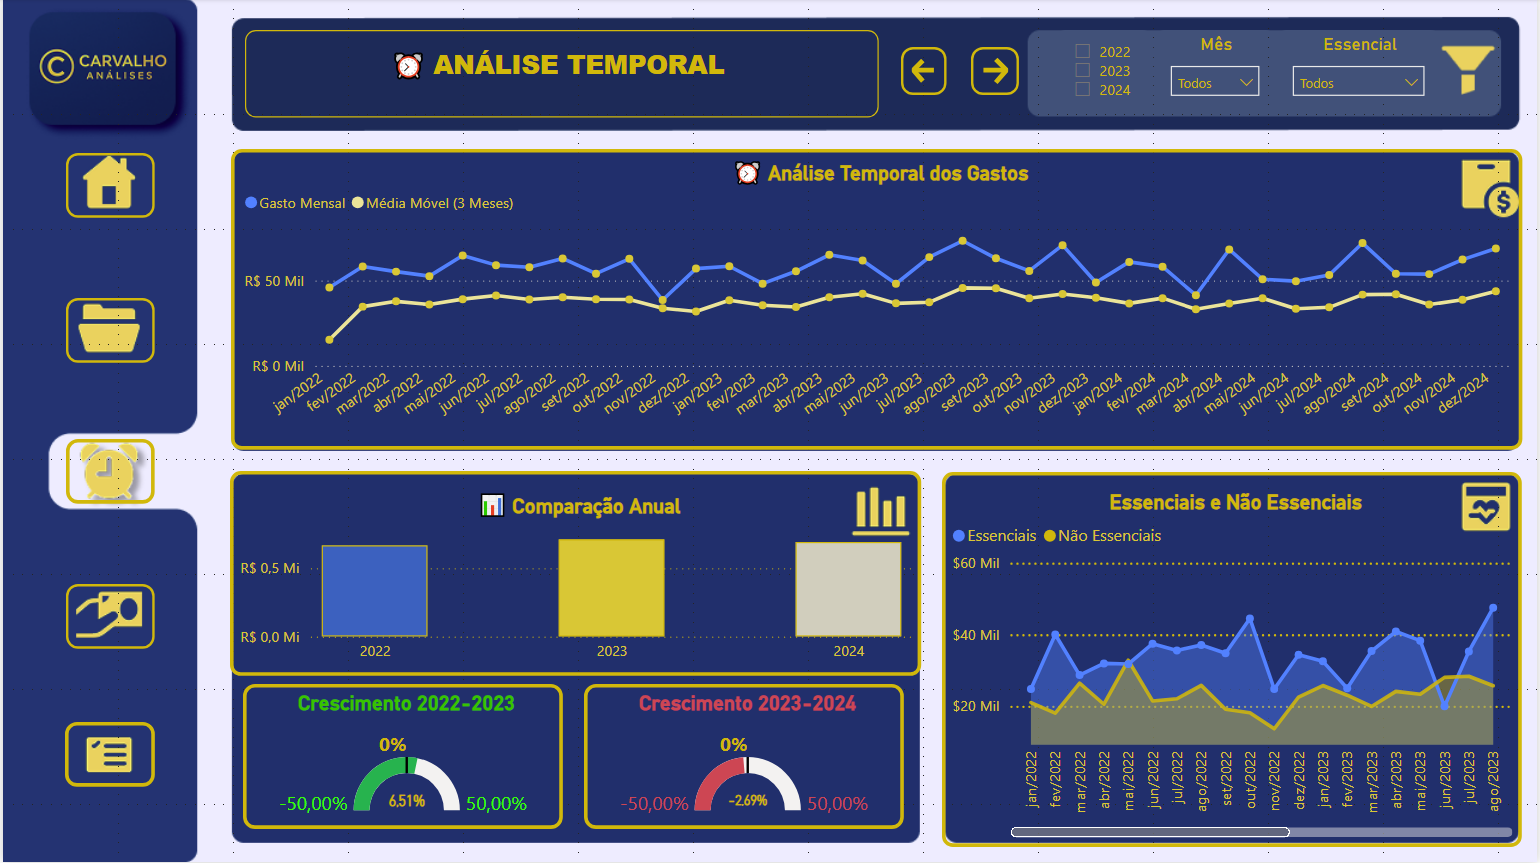

The page's visual inventory and layout, read from the dashboard file:
{"tool":"powerbi","page":{"name":"Análise temporal ","canvas":[1280,720],"ordinal":2},"visuals":[{"type":"lineChart","title":"⏰ Análise Temporal dos Gastos","fields":{"Category":["dim_data.Ano_Mes_Texto"],"Y":["despesas_2022_2024_etl.Total Geral","despesas_2022_2024_etl.Média Móvel 3 Meses SIMPLES"]},"box":[190.6,125.5,1078,251],"z":0},{"type":"clusteredColumnChart","title":"📊 Comparação Anual","fields":{"Category":["dim_data.Ano"],"Y":["despesas_2022_2024_etl.Total Geral"]},"box":[189.7,393.9,577,171.2],"z":1000},{"type":"areaChart","title":" Essenciais e  Não Essenciais ","fields":{"Y":["despesas_2022_2024_etl.Total Essenciais","despesas_2022_2024_etl.Total Não Essenciais"],"Category":["dim_data.Ano_Mes_Texto"]},"box":[784,394.9,484.4,313],"z":2000},{"type":"gauge","title":"Crescimento 2022-2023","fields":{"Y":["despesas_2022_2024_etl.Crescimento 2022-2023"],"TargetValue":["despesas_2022_2024_etl.Meta Zero"],"MaxValue":["despesas_2022_2024_etl.Maximo Gauge"],"MinValue":["despesas_2022_2024_etl.Minimo Gauge"]},"box":[200.5,571.9,267,121.4],"z":3000},{"type":"gauge","title":"Crescimento 2023-2024","fields":{"TargetValue":["despesas_2022_2024_etl.Meta Zero"],"MaxValue":["despesas_2022_2024_etl.Maximo Gauge"],"MinValue":["despesas_2022_2024_etl.Minimo Gauge"],"Y":["despesas_2022_2024_etl.Crescimento 2023-2024"]},"box":[485.4,571.9,267,121.4],"z":4000},{"type":"actionButton","box":[749.7,40,37.7,40],"z":5000},{"type":"actionButton","box":[808,40,40,40],"z":6000},{"type":"slicer","title":"Mês","fields":{"Values":["dim_data.Ano-Mês.Variation.Hierarquia de datas.Mês"]},"box":[960.5,26,102.2,65.1],"z":7000},{"type":"slicer","fields":{"Values":["dim_data.Ano-Mês.Variation.Hierarquia de datas.Ano"]},"box":[878.4,26,82.1,65.1],"z":8000},{"type":"slicer","title":"Essencial ","fields":{"Values":["despesas_2022_2024_etl.Essencial"]},"box":[1062.7,26,138.2,65.1],"z":9000},{"type":"textbox","box":[202.3,26.3,529.1,73],"z":10000},{"type":"actionButton","box":[52.5,128.4,74,54],"z":11000},{"type":"actionButton","box":[52.5,488.3,74,54],"z":12000},{"type":"actionButton","box":[52.5,367.7,74,54],"z":13000},{"type":"actionButton","box":[52.5,250,74,54],"z":14000},{"type":"actionButton","box":[52.1,603.9,75.1,54.1],"z":15000}]}

Visuals, with their boxes on the page's 1280x720 design canvas (x1, y1, x2, y2). These are canvas units, not pixel positions in the 1540x863 screenshot, which may show the page scaled, cropped or inside an application window:
"⏰ Análise Temporal dos Gastos" lineChart: Rect(191, 126, 1269, 376)
"📊 Comparação Anual" clusteredColumnChart: Rect(190, 394, 767, 565)
" Essenciais e  Não Essenciais " areaChart: Rect(784, 395, 1268, 708)
"Crescimento 2022-2023" gauge: Rect(200, 572, 468, 693)
"Crescimento 2023-2024" gauge: Rect(485, 572, 752, 693)
actionButton: Rect(750, 40, 787, 80)
actionButton: Rect(808, 40, 848, 80)
"Mês" slicer: Rect(960, 26, 1063, 91)
slicer - dim_data.Ano-Mês.Variation.Hierarquia de datas.Ano: Rect(878, 26, 960, 91)
"Essencial " slicer: Rect(1063, 26, 1201, 91)
textbox: Rect(202, 26, 731, 99)
actionButton: Rect(52, 128, 126, 182)
actionButton: Rect(52, 488, 126, 542)
actionButton: Rect(52, 368, 126, 422)
actionButton: Rect(52, 250, 126, 304)
actionButton: Rect(52, 604, 127, 658)
